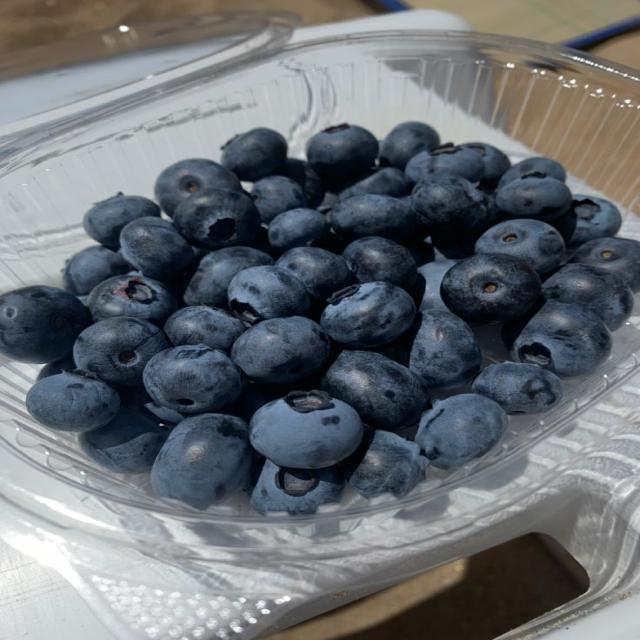blueberry: (151, 413, 253, 509), (250, 391, 363, 469), (503, 300, 612, 378), (322, 351, 429, 430), (416, 394, 508, 469), (0, 286, 90, 362), (143, 345, 242, 414), (441, 254, 541, 322), (232, 317, 330, 384), (74, 317, 169, 386), (320, 282, 415, 347), (543, 263, 633, 330), (342, 430, 428, 497), (409, 310, 481, 388), (27, 370, 119, 431), (79, 410, 165, 474), (184, 247, 273, 307), (174, 189, 260, 249), (252, 460, 344, 515), (475, 219, 565, 274), (155, 159, 241, 216), (412, 173, 493, 232), (120, 217, 194, 280), (228, 266, 309, 323), (87, 275, 177, 325), (473, 363, 562, 413), (330, 194, 418, 243), (83, 193, 159, 248), (276, 247, 353, 300), (343, 237, 417, 289), (164, 306, 245, 352), (307, 124, 378, 176), (495, 173, 571, 220), (572, 238, 639, 291), (221, 128, 287, 181), (554, 195, 621, 247), (63, 246, 129, 296), (405, 144, 484, 182), (380, 122, 439, 170), (225, 382, 293, 422), (251, 175, 307, 223), (268, 208, 330, 250), (340, 168, 412, 199), (278, 159, 325, 206), (461, 143, 511, 187), (498, 157, 566, 188), (418, 260, 456, 311), (431, 229, 479, 260), (246, 226, 281, 260), (116, 383, 152, 416), (37, 355, 76, 381), (145, 402, 187, 424), (409, 241, 434, 266)
